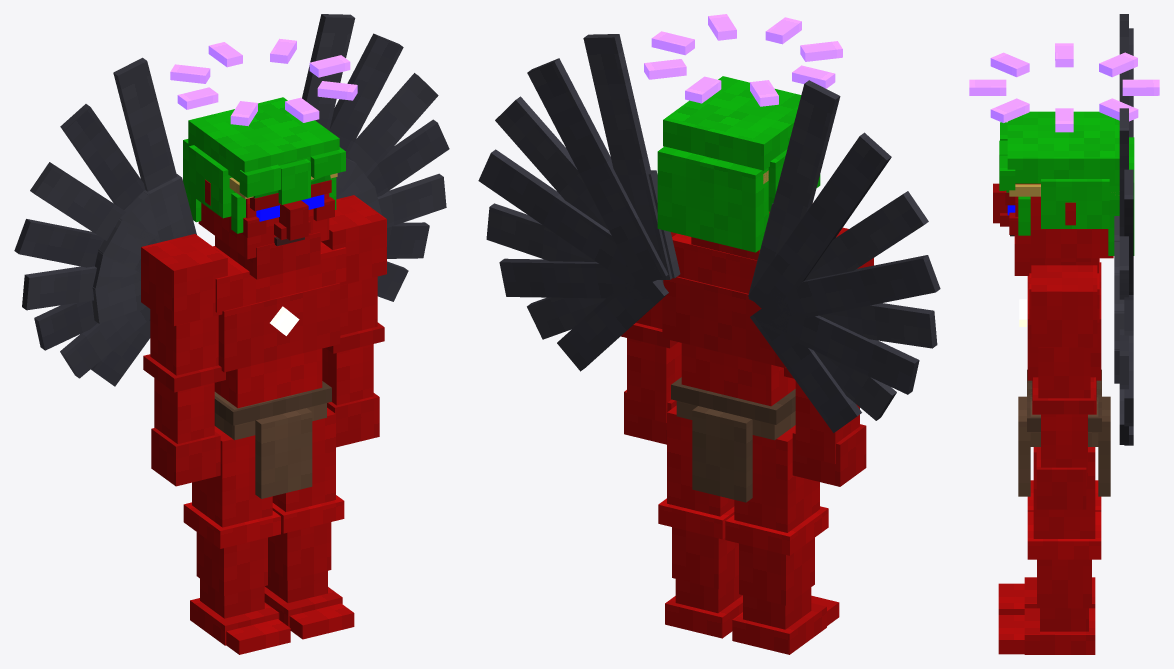
The model's file is angel_s2_evo1.glb.
3 views of the same model, side by side, from view 1: azimuth 30°, elevation 25°; view 2: azimuth 150°, elevation 25°; view 3: azimuth 270°, elevation 25° (orthographic). The views are drawn at different scales.
Visible parts, largest first — view 1: Torso, Head, ArmR, LegR, LegL, ArmL; view 2: Torso, Head, LegR, LegL, ArmL, ArmR; view 3: Head, ArmL, Torso, LegL, LegR.
Boxes of the visible parts, x1,y1,x2,y2 form: Torso: (14,14,449,498); Head: (170,38,357,279); ArmR: (141,234,227,486); LegR: (183,426,290,654); LegL: (264,407,354,639); ArmL: (321,195,386,447); Torso: (478,34,940,502); Head: (644,14,842,260); LegR: (725,425,839,654); LegL: (658,405,742,638); ArmL: (620,232,681,444); ArmR: (784,227,873,486); Head: (969,43,1159,275); ArmL: (1031,265,1097,509); Torso: (1018,14,1133,496); LegL: (998,447,1101,654); LegR: (998,480,1101,614).
Size of the model in its own units: 1.63 by 2.02 by 0.6201.
Materials: 25 (25 with a texture image).
